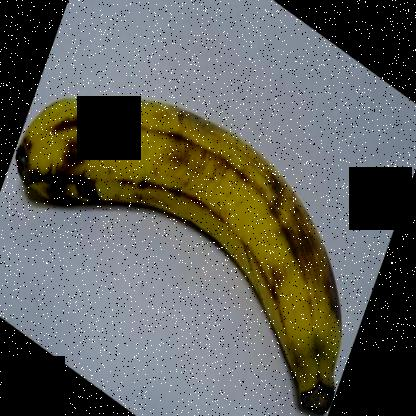overripe: (11, 84, 348, 404)
